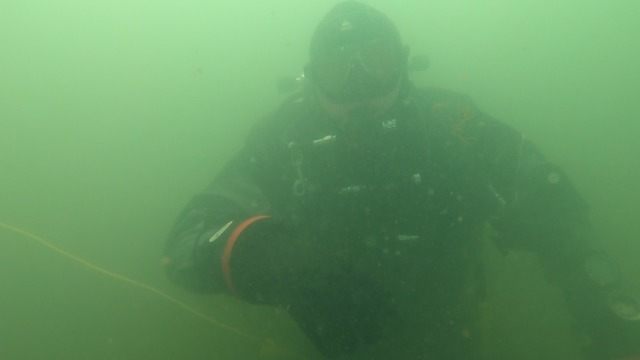Diver: (162, 2, 636, 354)
Hand: (222, 208, 402, 349)
Head: (303, 2, 418, 146)
